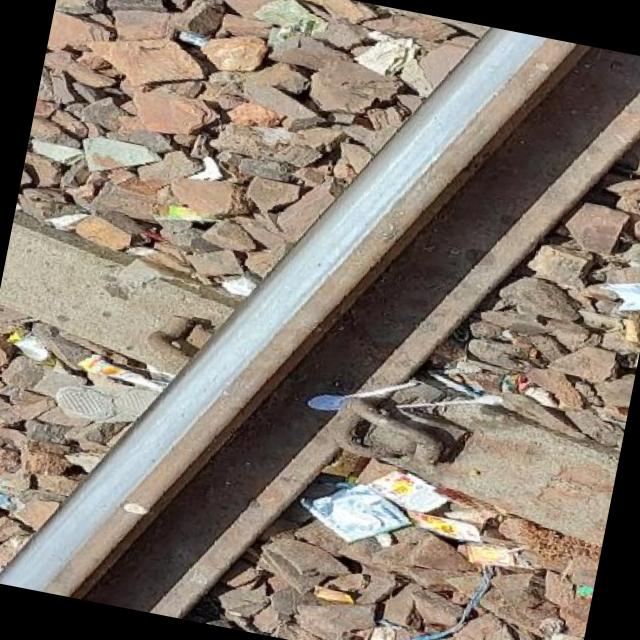non-defective: (0, 0, 583, 634)
